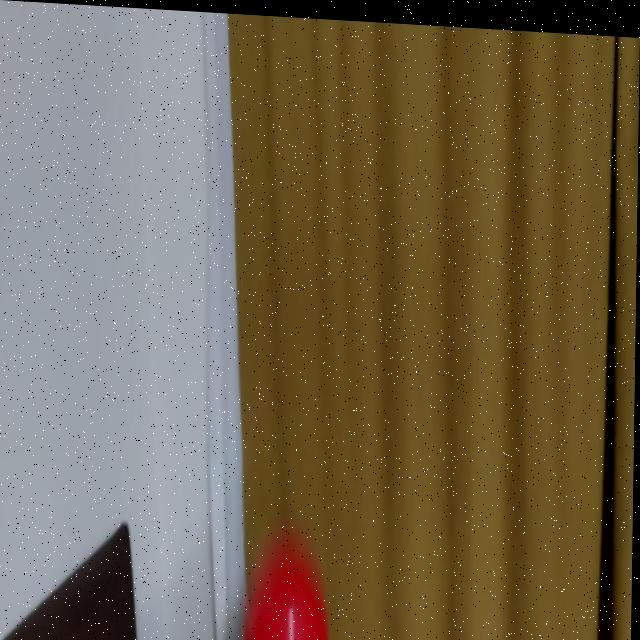balloon: (246, 530, 335, 640)
